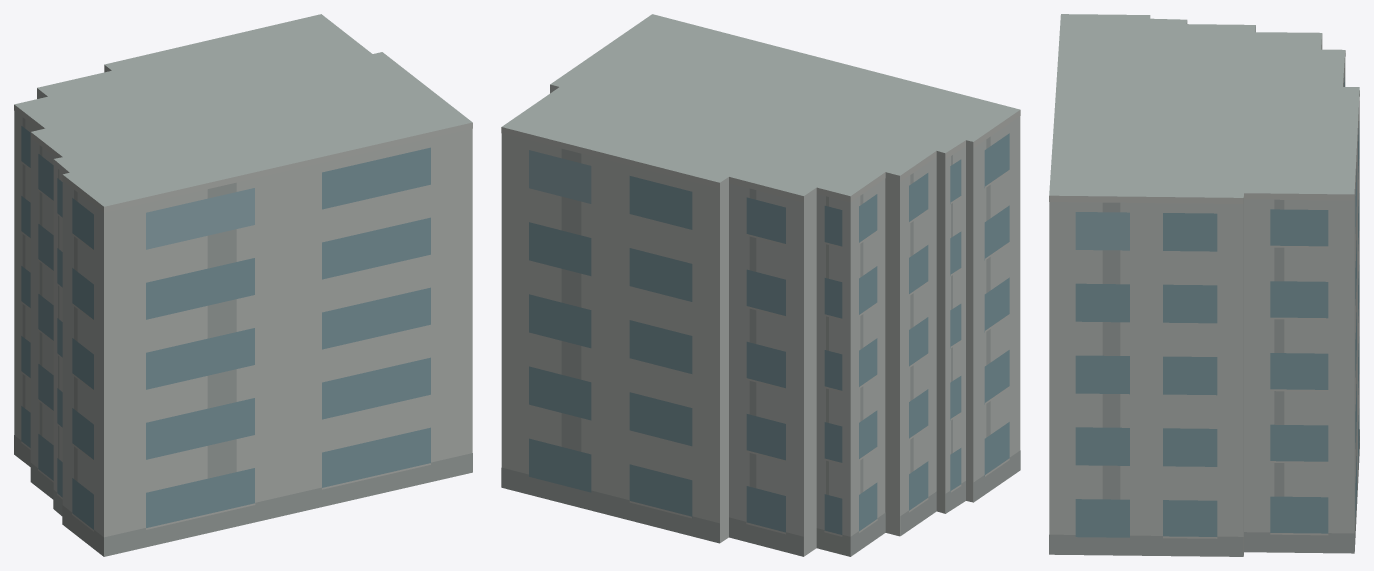
Rendered from survey-upis-32899336.glb.
3 views of the same model, side by side, from view 1: azimuth 30°, elevation 25°; view 2: azimuth 150°, elevation 25°; view 3: azimuth 270°, elevation 25° (orthographic). The views are drawn at different scales.
Visible parts, largest first — view 1: survey-upis-32899336.tmp; view 2: survey-upis-32899336.tmp; view 3: survey-upis-32899336.tmp.
Boxes of the visible parts, left/top/right/bottom form: survey-upis-32899336.tmp: left=14, top=14, right=472, bottom=556; survey-upis-32899336.tmp: left=501, top=14, right=1020, bottom=556; survey-upis-32899336.tmp: left=1049, top=14, right=1359, bottom=556.
Bounding box in the file's own units: 15.39 × 14 × 10.99.
